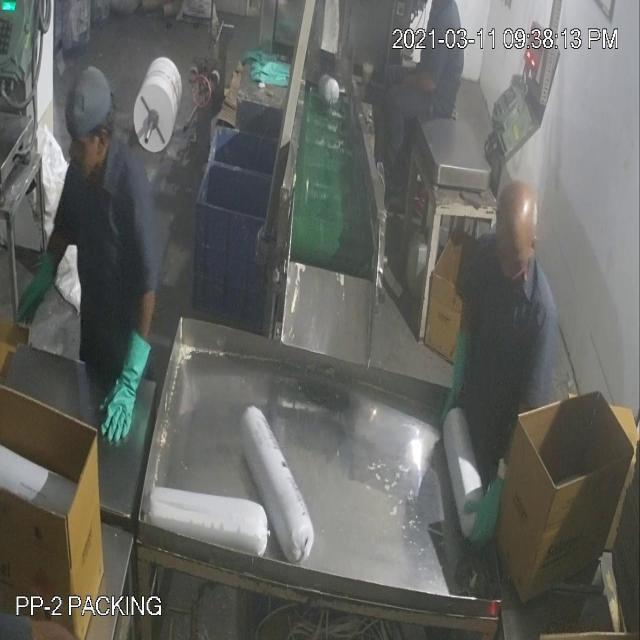Gloves: (37, 50, 481, 508)
